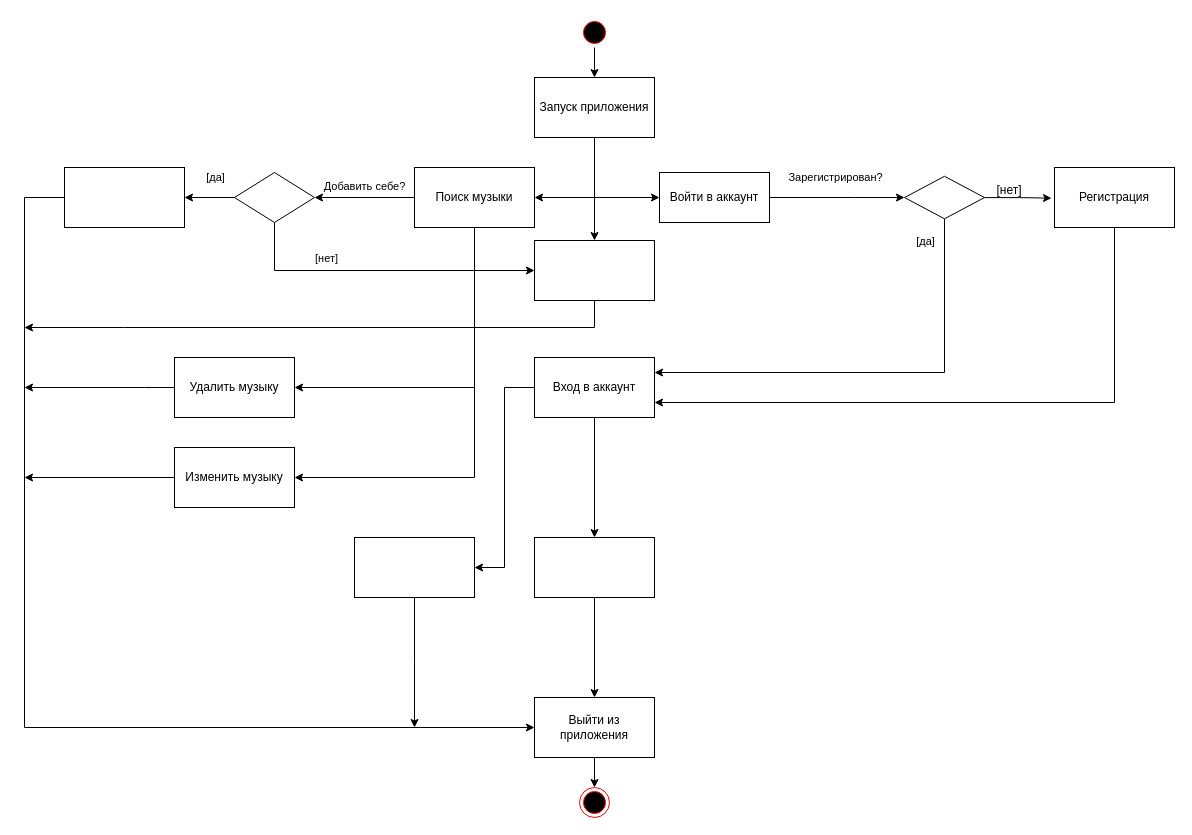
Image size: 1192x835. Some labels were removed from this diagram. Here are the shapes that lost their labels. From the top down, the box of each, then its label:
(64, 166, 184, 228): Добавить себе музыку
(534, 240, 654, 300): Прослушать музыку
(354, 536, 474, 598): Добавить музыку
(534, 536, 654, 598): Просмотреть свою музыку
